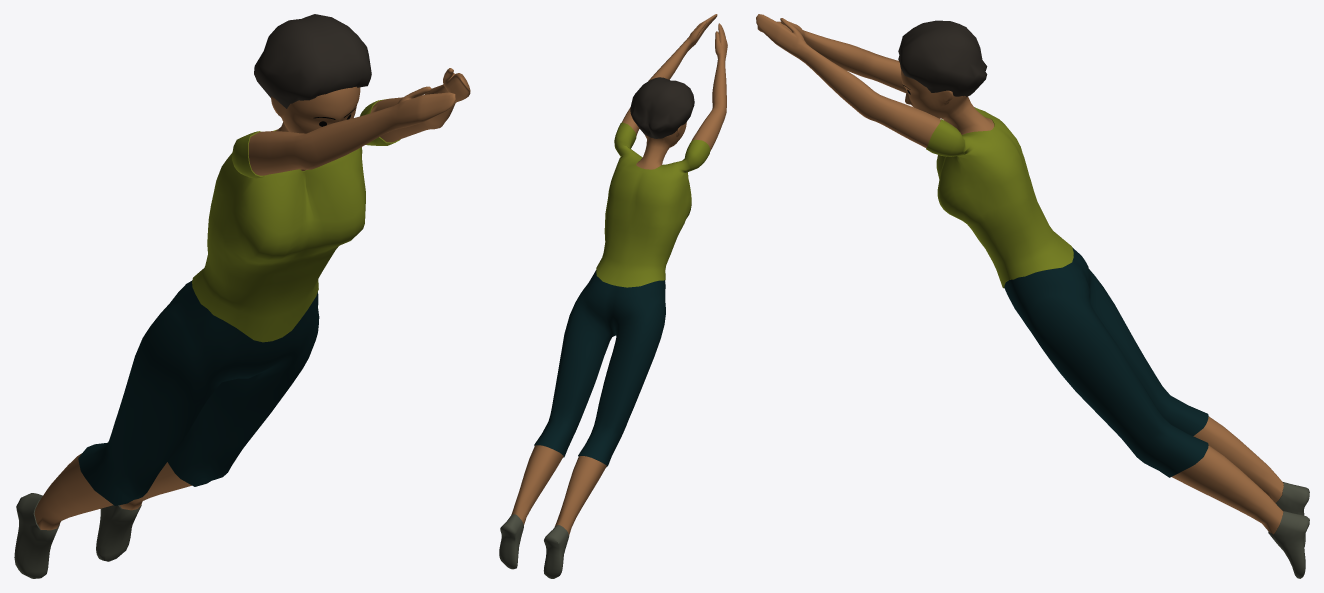
The model's file is Female_Leap_Grab.glb.
3 renders of one model, left to right at view 1: azimuth 30°, elevation 25°; view 2: azimuth 150°, elevation 25°; view 3: azimuth 270°, elevation 25°, orthographic. The views are drawn at different scales.
Visible parts, largest first — view 1: Female-Leap-Grab; view 2: Female-Leap-Grab; view 3: Female-Leap-Grab.
Boxes of the visible parts, <box> form: Female-Leap-Grab: <box>14,14,470,578</box>; Female-Leap-Grab: <box>499,14,727,578</box>; Female-Leap-Grab: <box>756,14,1309,578</box>.
Size of the model in its own units: 0.3491 by 1.53 by 1.37.
